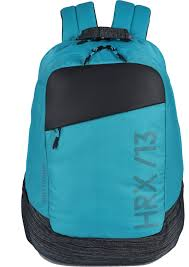backpack: (20, 0, 184, 266)
